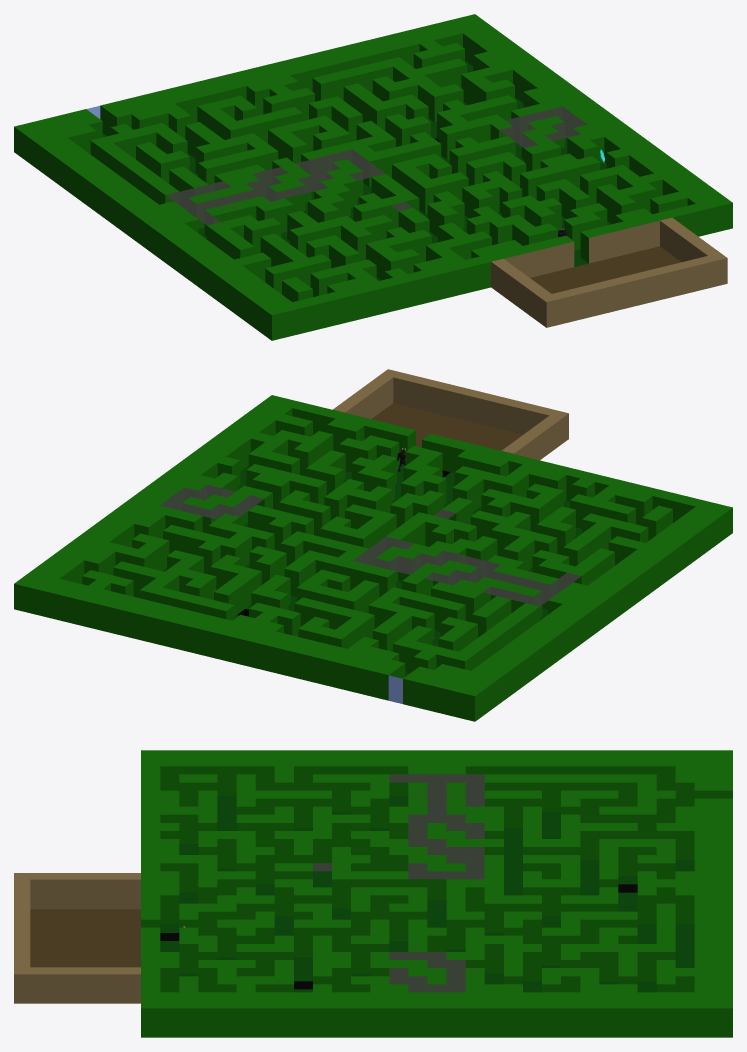
The model's file is Laberinto Minotauro v1.2.fbx.
The picture shows the model from 3 angles, top to bottom: view 1: azimuth 30°, elevation 25°; view 2: azimuth 150°, elevation 25°; view 3: azimuth 270°, elevation 25°; orthographic projection. The views are drawn at different scales.
Visible parts, largest first — view 1: Paredes, Suelo, Paredes.002; view 2: Paredes, Suelo, Paredes.002; view 3: Paredes, Suelo, Paredes.002.
Part boxes in pixels (<box>): Paredes: <box>14,14,732,340</box>; Suelo: <box>86,60,727,327</box>; Paredes.002: <box>165,106,587,225</box>; Paredes: <box>14,395,732,721</box>; Suelo: <box>162,369,582,703</box>; Paredes.002: <box>159,485,581,606</box>; Paredes: <box>141,750,732,1037</box>; Suelo: <box>14,795,694,1003</box>; Paredes.002: <box>313,774,484,992</box>.
Size of the model in its own units: 2600 by 238 by 3060.
